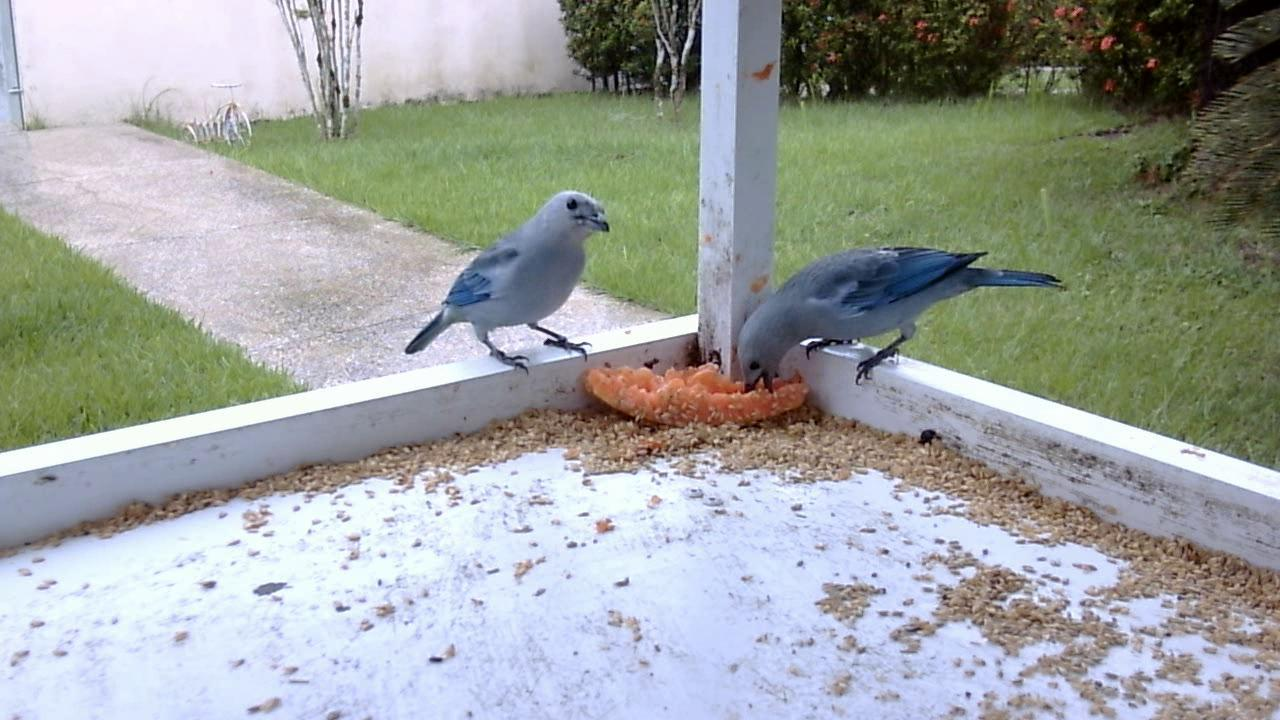sanhaco_da_amazonia: (733, 241, 1056, 400), (400, 189, 611, 378)
